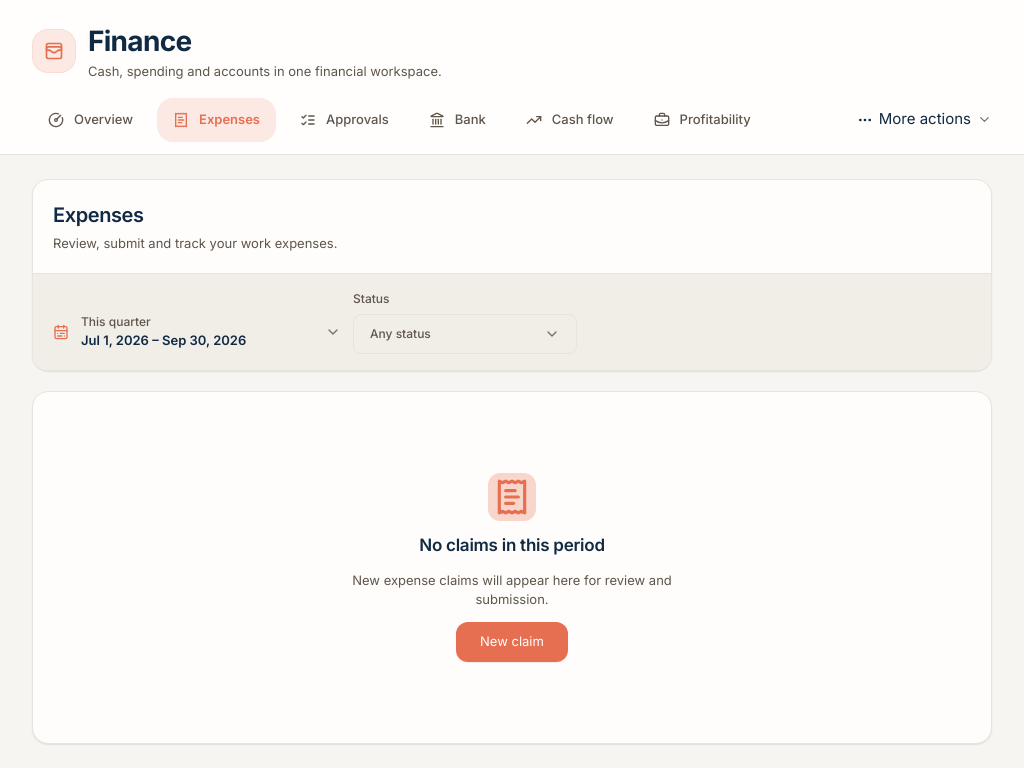
it: getting to a report › a tab lands where it says it lands, from any depth
Click the button "More actions". click: (924, 120)
box: [857,108,992,131]
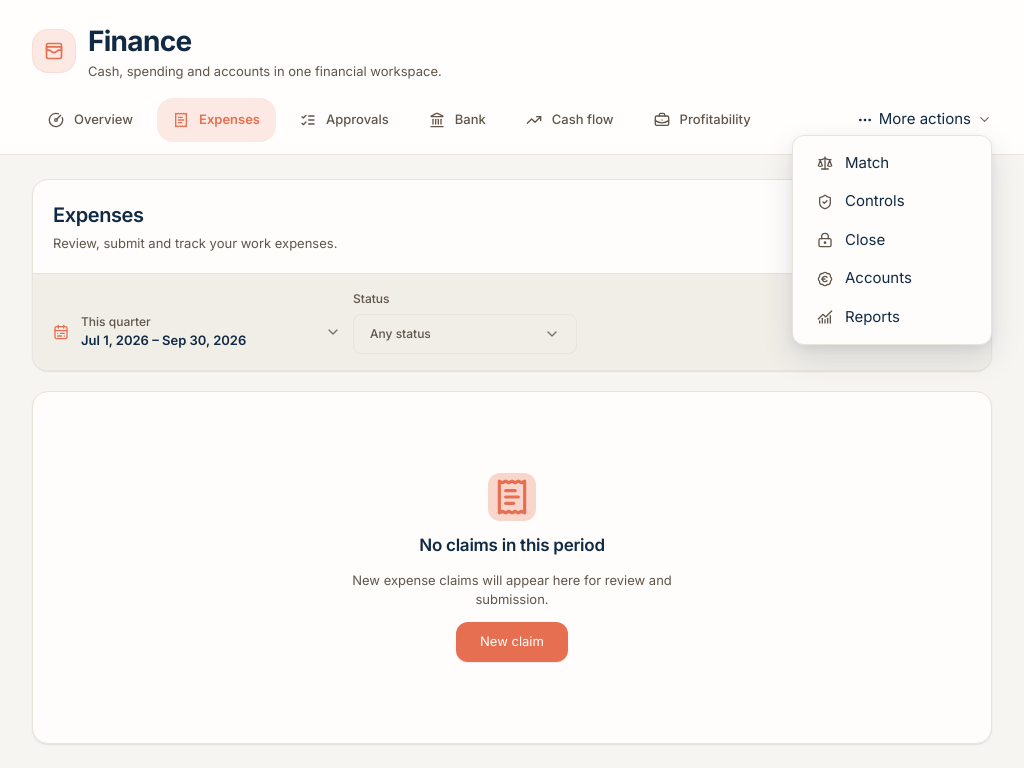
Click the menu item "Reports". click: (892, 317)
box: [801,298,983,336]
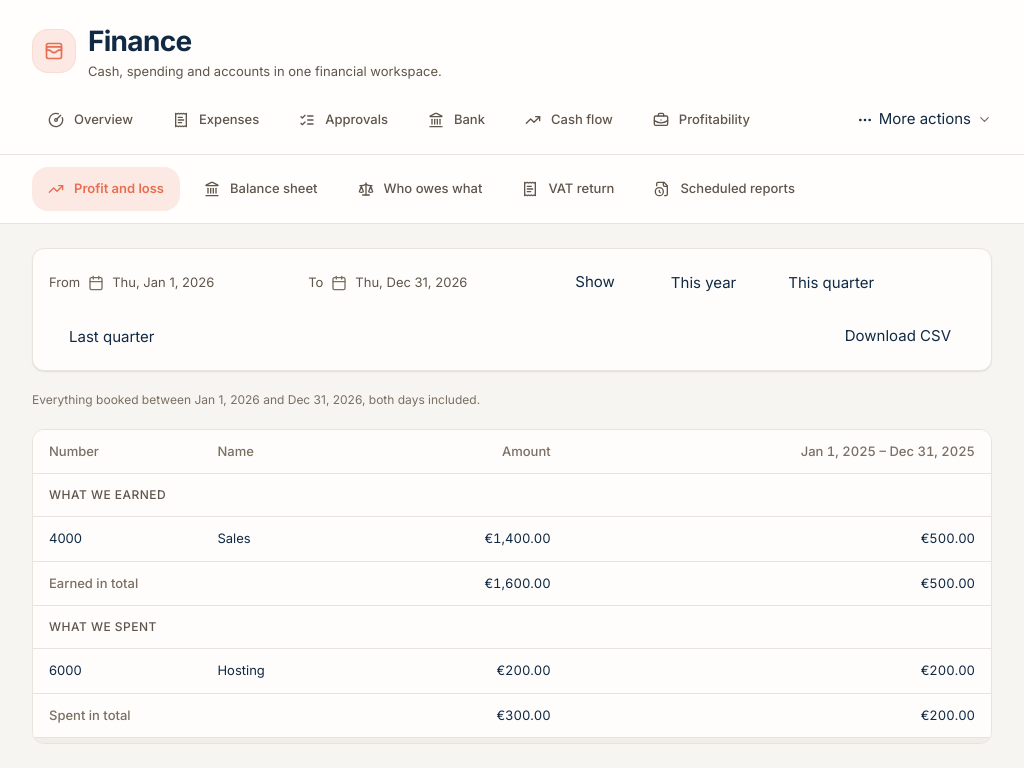
Result: the column heading "What we earned" is shown at [33,474,991,516]
# …and a second row's tab, one level deeper still.
Click the link "Balance sheet". click: (261, 188)
box: [204,180,318,197]
(page scrolled)
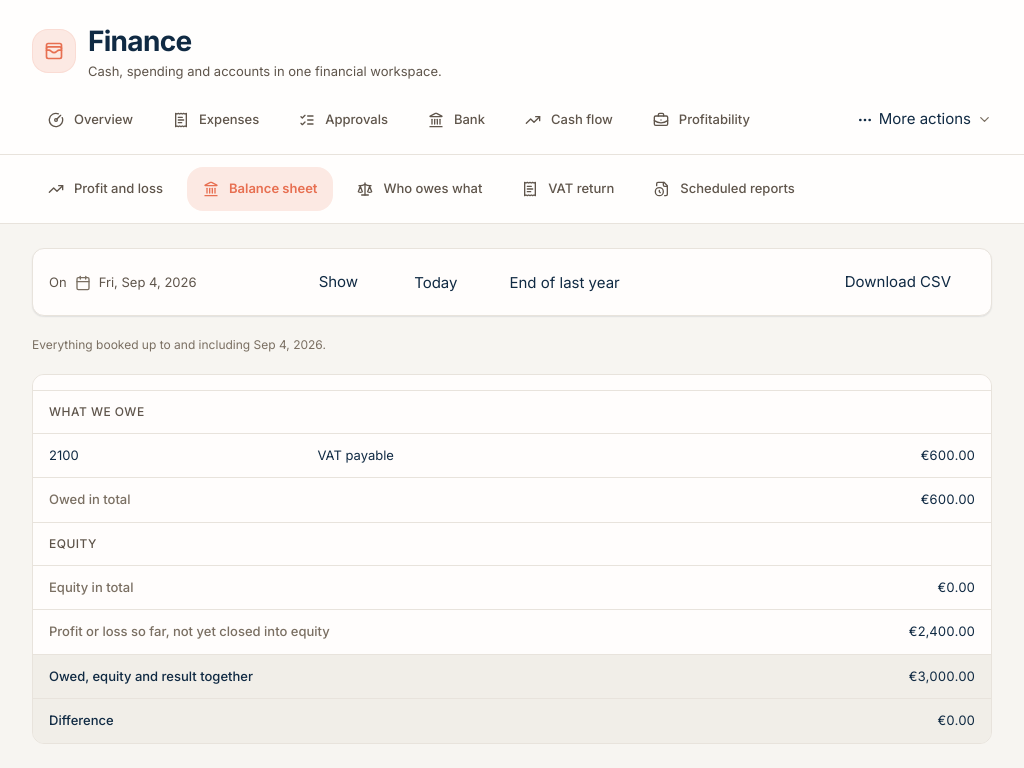
Result: the column heading "Profit or loss so far, not yet closed into equity" is shown at [33,610,762,654]
